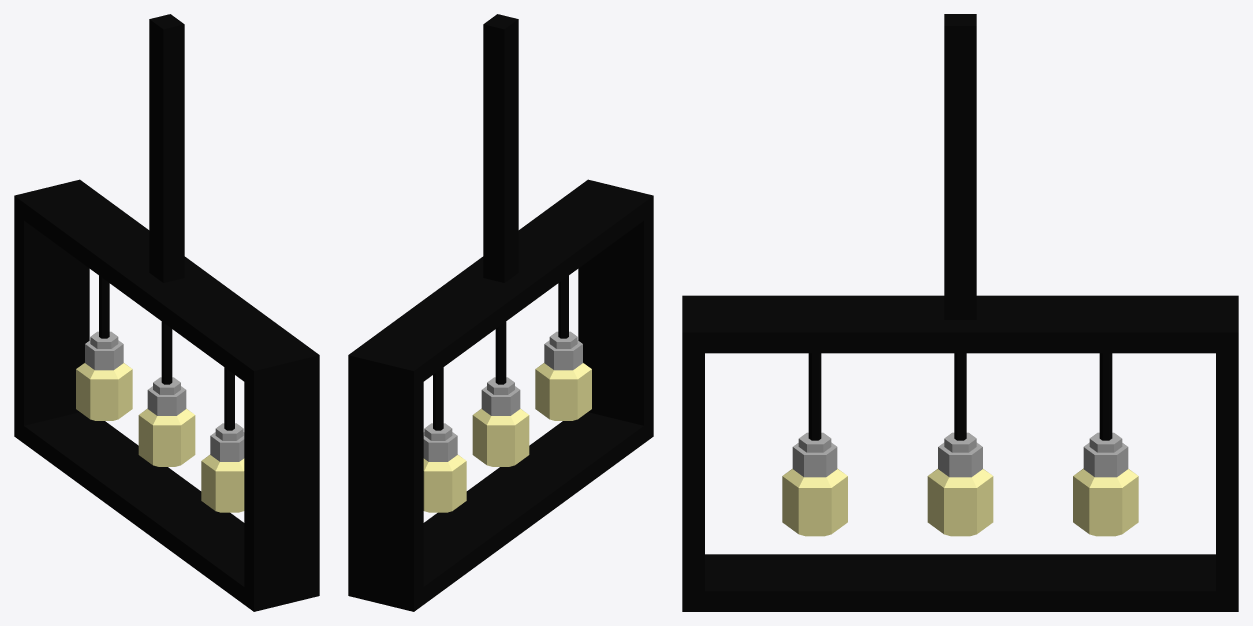
Rendered from lampChandelier.gltf.
3 renders of one model, left to right at view 1: azimuth 30°, elevation 25°; view 2: azimuth 150°, elevation 25°; view 3: azimuth 270°, elevation 25°, orthographic. The views are drawn at different scales.
Parts seen in each view (by area): view 1: lampChandelier; view 2: lampChandelier; view 3: lampChandelier.
Part boxes in pixels (x1,y1,x2,y2): lampChandelier: (14,14,319,611); lampChandelier: (348,14,653,611); lampChandelier: (682,14,1238,611).
Size of the model in its own units: 1.16 by 8.34 by 7.33.
Materials: 1 (1 with a texture image).
